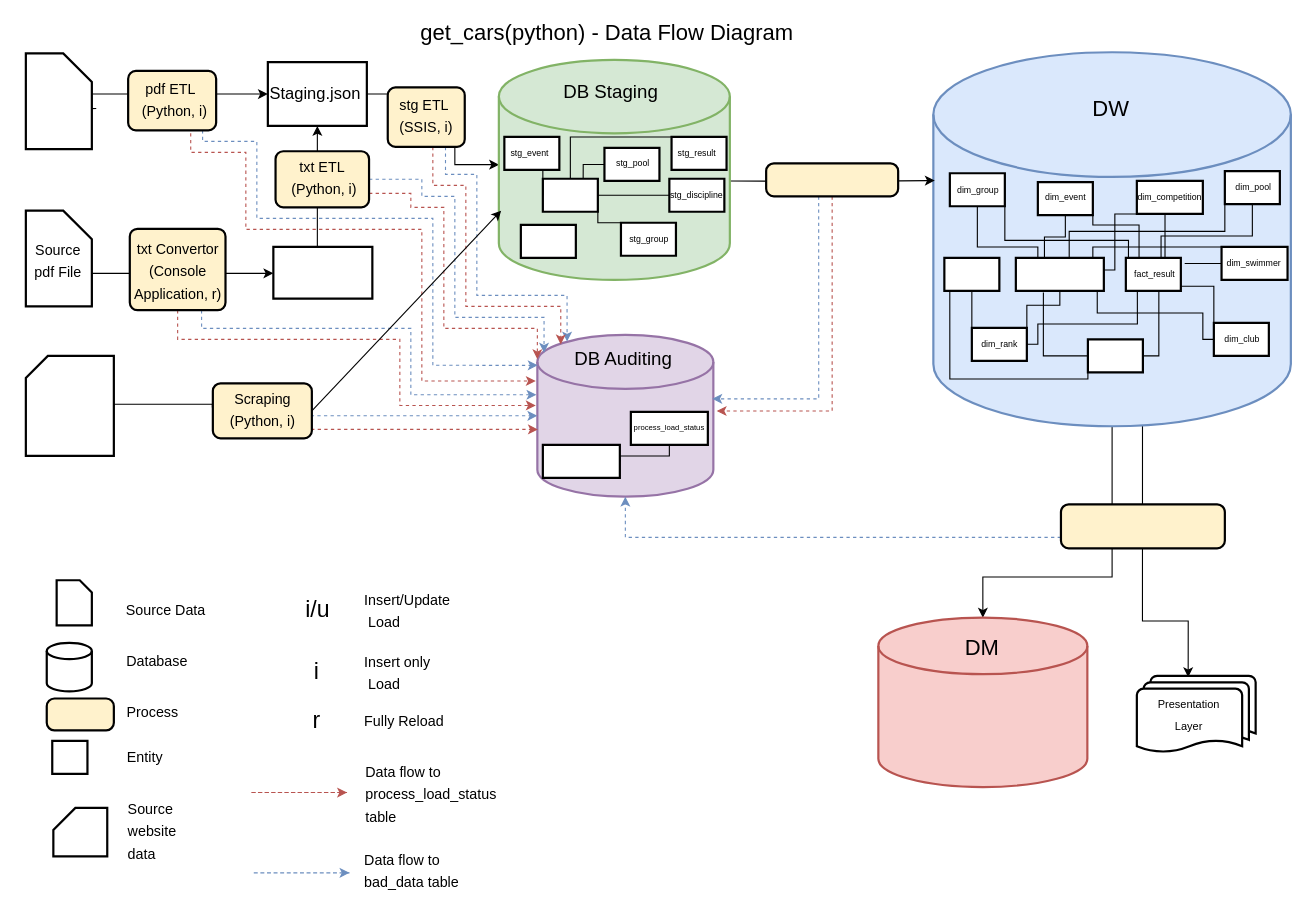
Image size: 1310x912. Some labels were removed from this diagram. Each missing label, with the centre of its shape:
bad_data: the point at 580,461
dim_discipline: the point at 1114,355
dim_norm: the point at 971,274
DW ETL (SSIS, i): the point at 832,179
DW ETL(views/SSIS, i/u): the point at 1142,526
fact_disqualification: the point at 1059,274
Source .csv File: the point at 58,101
Source swimming norms website: the point at 69,405
Staging.txt: the point at 322,272
stg_competition: the point at 569,194
stg_norm: the point at 547,240
